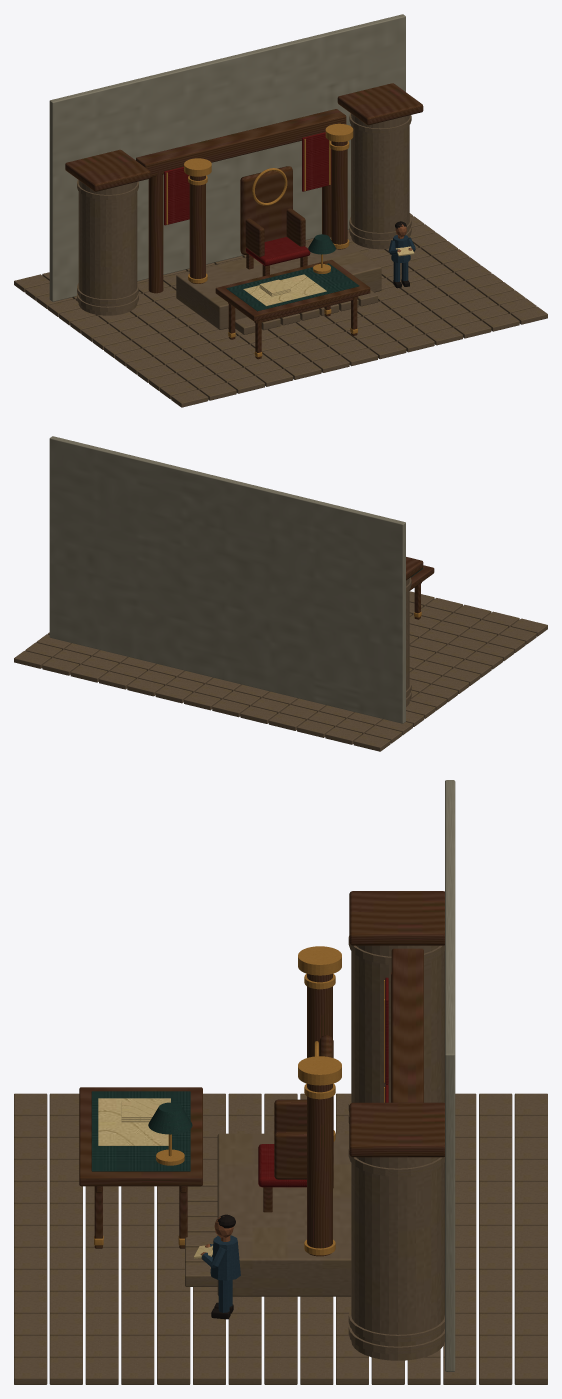
The model's file is room.glb.
3 renders of one model, top to bottom at view 1: azimuth 30°, elevation 25°; view 2: azimuth 150°, elevation 25°; view 3: azimuth 270°, elevation 25°, orthographic. The views are drawn at different scales.
Visible parts, largest first — view 1: Courtyard paving, Open courtyard backdrop, Ceremonial column, Illustrative hanging banner, Leather writing insert, Column capital, Blank contour study, Ceremonial seat cushion, Figure trouser; view 2: Open courtyard backdrop, Courtyard paving, Ceremonial column; view 3: Courtyard paving, Ceremonial column, Open courtyard backdrop, Leather writing insert, Column capital, Blank contour study, Figure trouser, Ceremonial seat cushion.
Part boxes in pixels (left/top/right/bottom): Courtyard paving: left=14, top=113, right=547, bottom=407; Open courtyard backdrop: left=49, top=14, right=405, bottom=301; Ceremonial column: left=65, top=83, right=423, bottom=359; Illustrative hanging banner: left=164, top=132, right=331, bottom=225; Leather writing insert: left=226, top=234, right=359, bottom=311; Column capital: left=184, top=123, right=357, bottom=357; Blank contour study: left=243, top=274, right=326, bottom=306; Ceremonial seat cushion: left=246, top=237, right=310, bottom=265; Figure trouser: left=388, top=235, right=415, bottom=281; Open courtyard backdrop: left=49, top=436, right=405, bottom=723; Courtyard paving: left=14, top=577, right=547, bottom=751; Ceremonial column: left=406, top=557, right=434, bottom=619; Courtyard paving: left=14, top=936, right=547, bottom=1384; Ceremonial column: left=79, top=891, right=444, bottom=1256; Open courtyard backdrop: left=445, top=780, right=455, bottom=1371; Leather writing insert: left=91, top=1091, right=192, bottom=1171; Column capital: left=94, top=946, right=341, bottom=1255; Blank contour study: left=98, top=1098, right=170, bottom=1145; Figure trouser: left=201, top=1235, right=240, bottom=1312; Ceremonial seat cushion: left=258, top=1144, right=306, bottom=1187.
Size of the model in its own units: 10.36 by 5.53 by 8.21.
10 materials, 10 textured.
